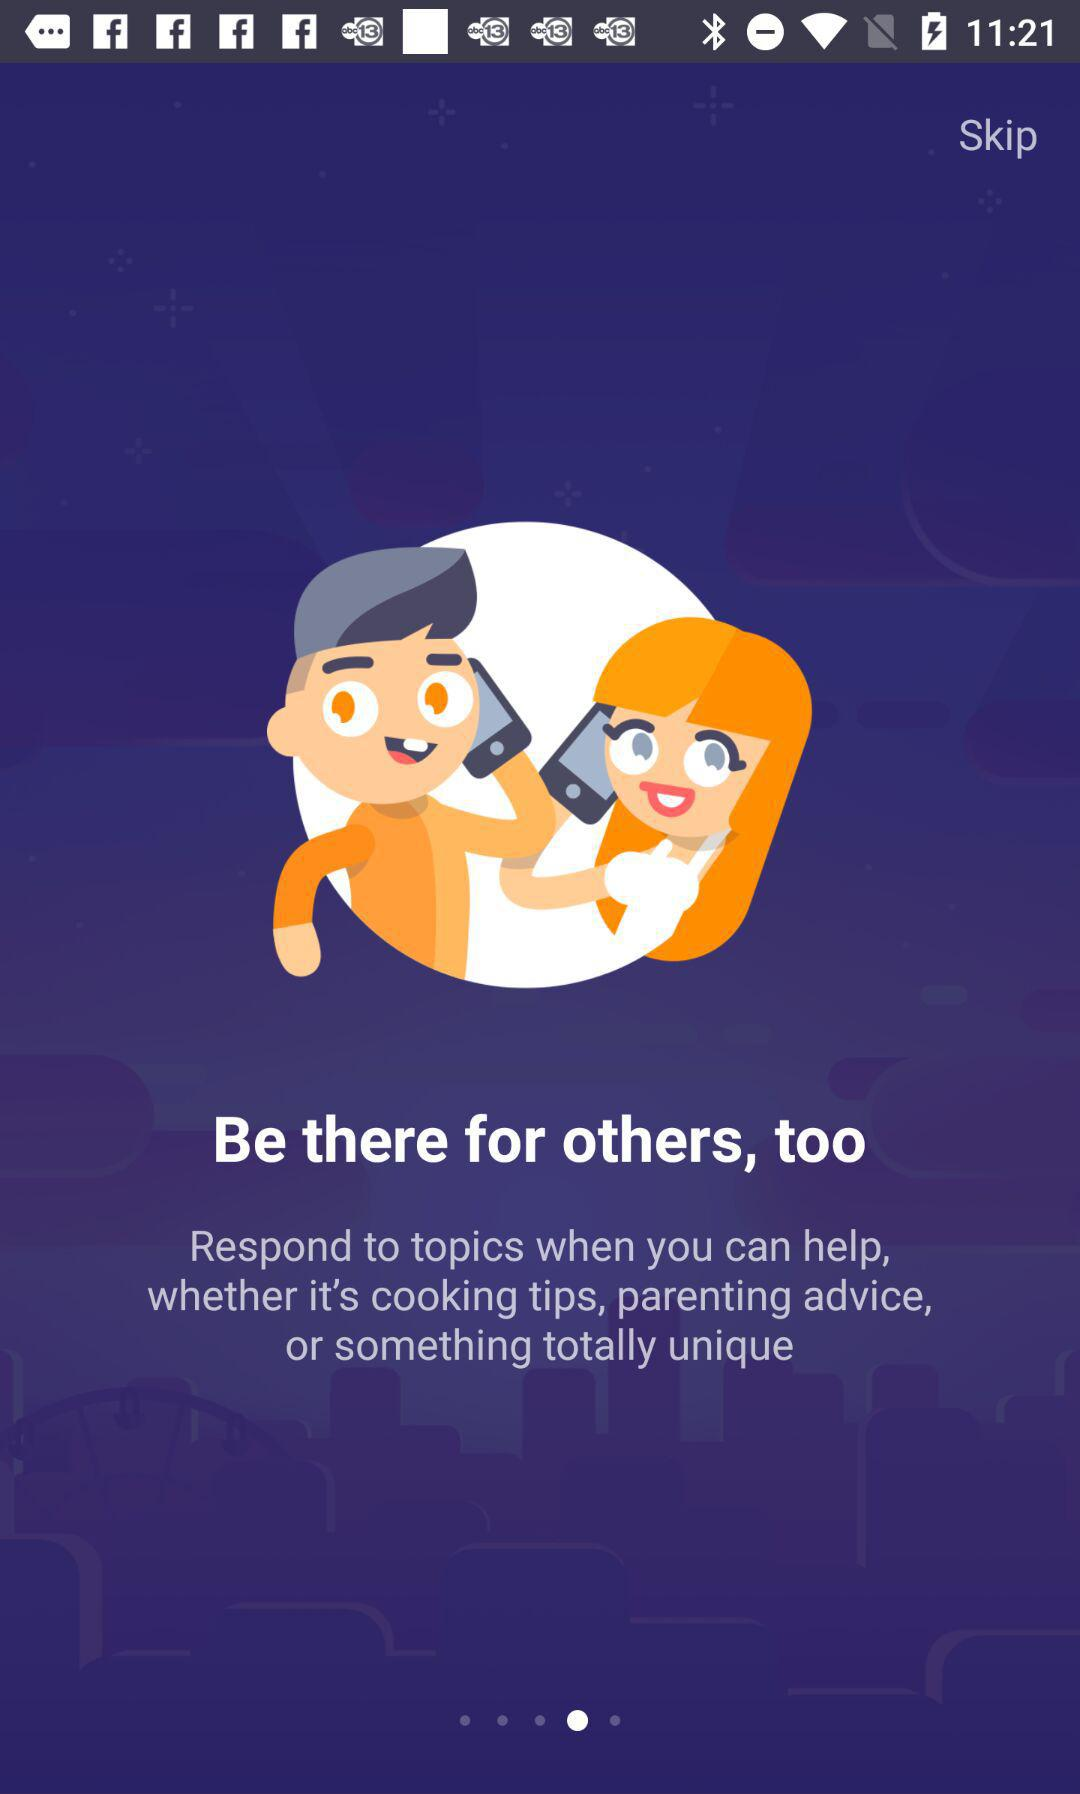BackgroundImage: (1, 64, 1080, 1794)
Image: (265, 522, 814, 991)
PageIndicator: (457, 1708, 624, 1732)
Text: (146, 1228, 933, 1371), (215, 1114, 866, 1175), (960, 118, 1038, 161)
UpperTaskBar: (1, 1, 1080, 64)
